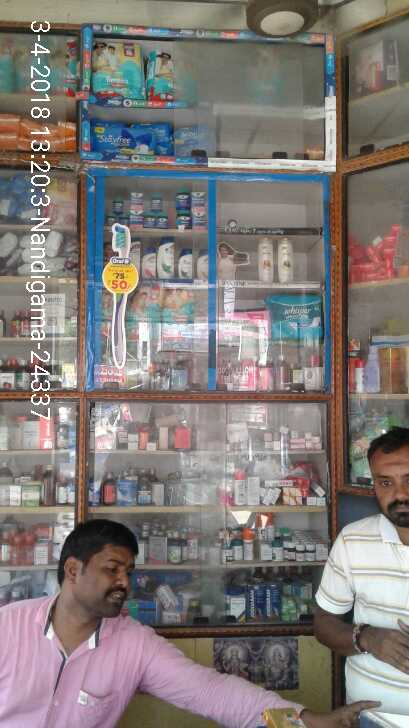vicks: (108, 189, 207, 228)
